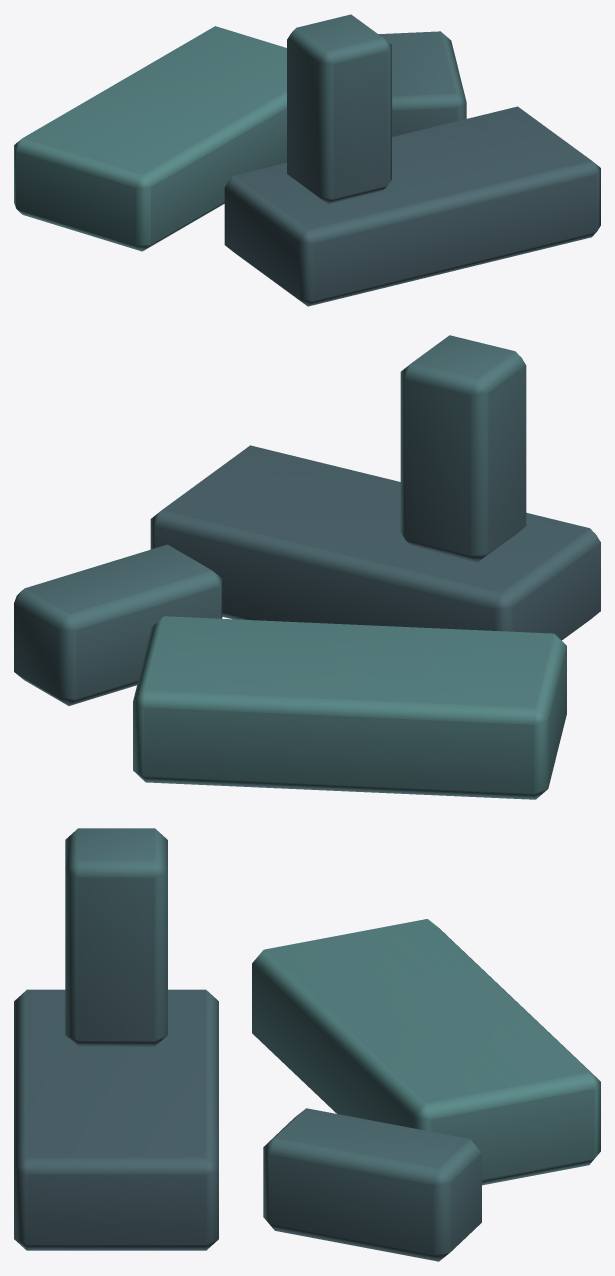
Rendered from fence_01_broken_hue_1.fbx.
3 renders of one model, top to bottom at view 1: azimuth 30°, elevation 25°; view 2: azimuth 150°, elevation 25°; view 3: azimuth 270°, elevation 25°, orthographic. The views are drawn at different scales.
Visible parts, largest first — view 1: fence_01_broken_hue_1; view 2: fence_01_broken_hue_1; view 3: fence_01_broken_hue_1.
Part boxes in pixels (x1=…): fence_01_broken_hue_1: x1=14, y1=14, x2=600, y2=306; fence_01_broken_hue_1: x1=14, y1=335, x2=600, y2=799; fence_01_broken_hue_1: x1=14, y1=828, x2=600, y2=1261.
Size of the model in its own units: 150 by 75 by 143.
